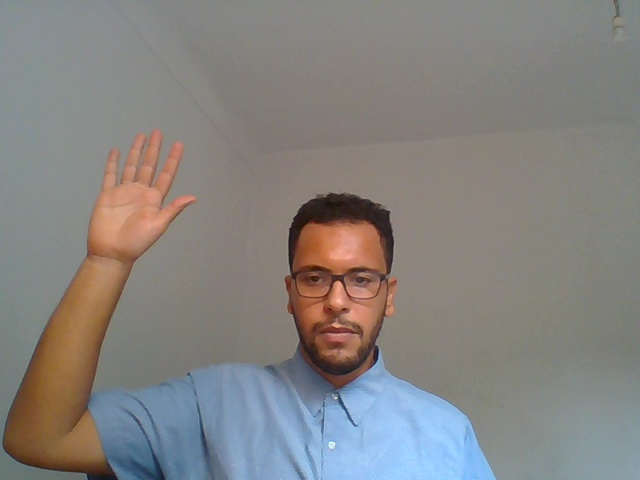hello: (38, 102, 199, 378)
